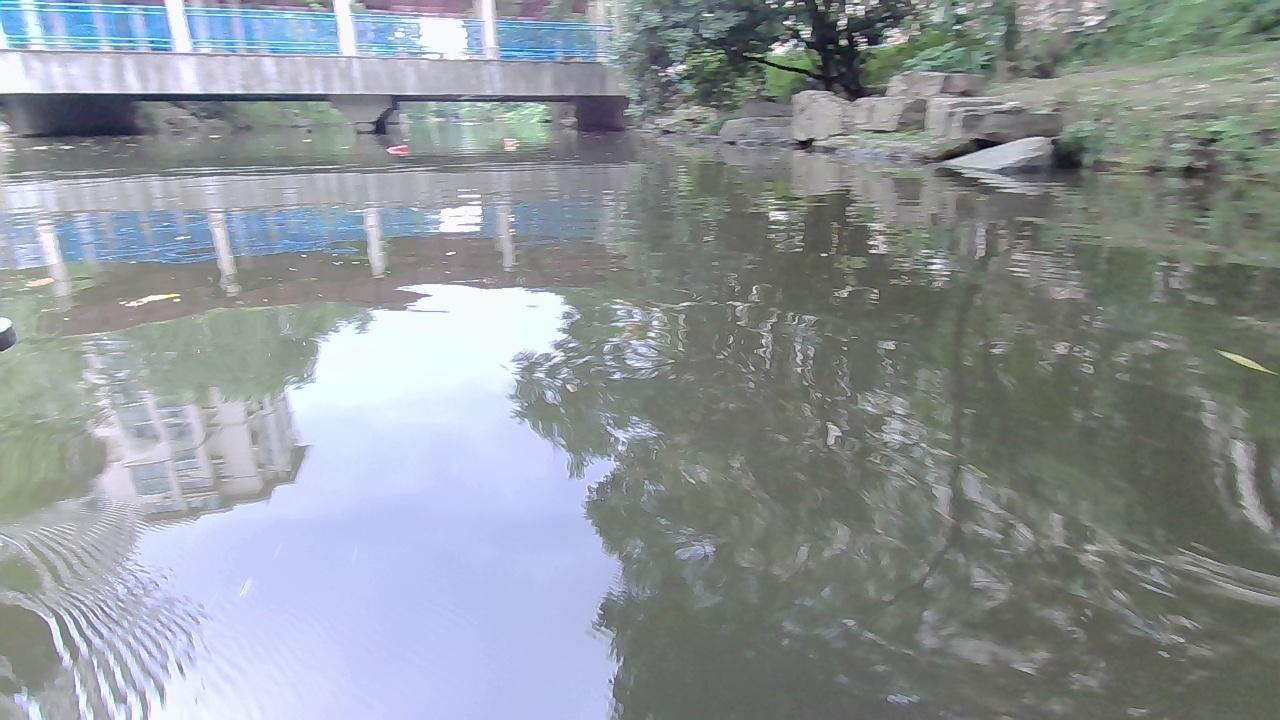bottle: (386, 141, 407, 153), (502, 136, 520, 146)
